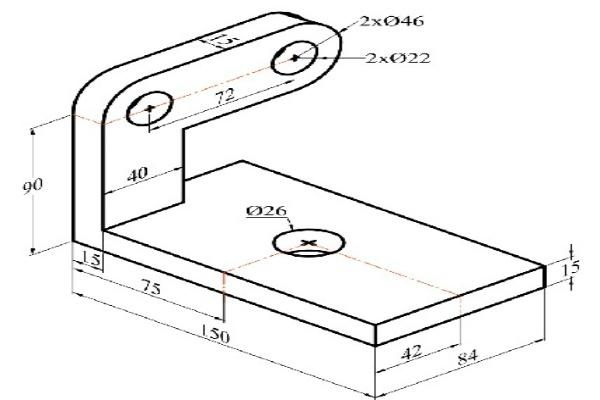dimensions: (362, 47, 438, 70), (357, 8, 430, 31), (197, 314, 236, 345), (239, 201, 294, 218), (450, 345, 485, 371), (135, 270, 165, 298), (397, 341, 428, 366), (211, 85, 241, 107), (123, 163, 151, 186), (558, 259, 586, 281), (207, 31, 243, 48), (21, 175, 47, 197), (81, 248, 104, 269)
